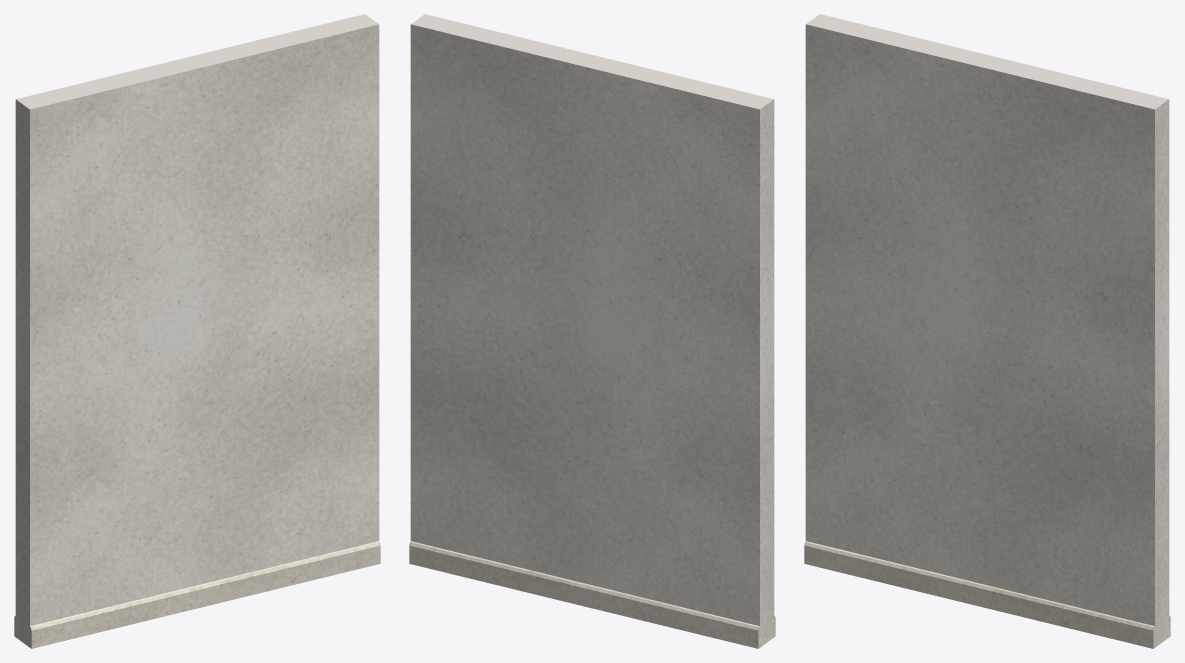
Rendered from iw0_plain.glb.
3 renders of one model, left to right at view 1: azimuth 30°, elevation 25°; view 2: azimuth 150°, elevation 25°; view 3: azimuth 330°, elevation 25°, orthographic.
Parts seen in each view (by area): view 1: iw0_plain_plaster, iw0_plain_trim; view 2: iw0_plain_plaster, iw0_plain_trim; view 3: iw0_plain_plaster, iw0_plain_trim.
Boxes of the visible parts, bbox=[...] form: iw0_plain_plaster: bbox=[15, 14, 379, 647]; iw0_plain_trim: bbox=[14, 541, 380, 648]; iw0_plain_plaster: bbox=[410, 14, 774, 647]; iw0_plain_trim: bbox=[409, 541, 775, 648]; iw0_plain_plaster: bbox=[805, 14, 1169, 647]; iw0_plain_trim: bbox=[804, 541, 1170, 648].
Size of the model in its own units: 2 by 2.94 by 0.172.
2 materials, 2 textured.
